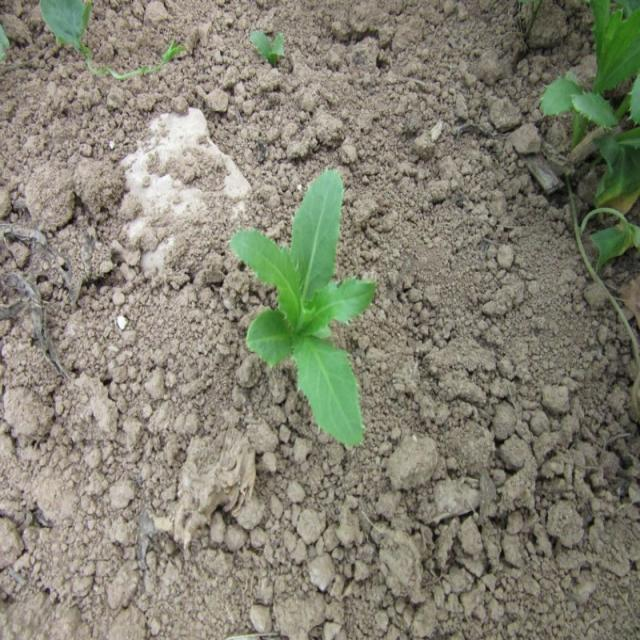cs: (223, 162, 377, 456)
